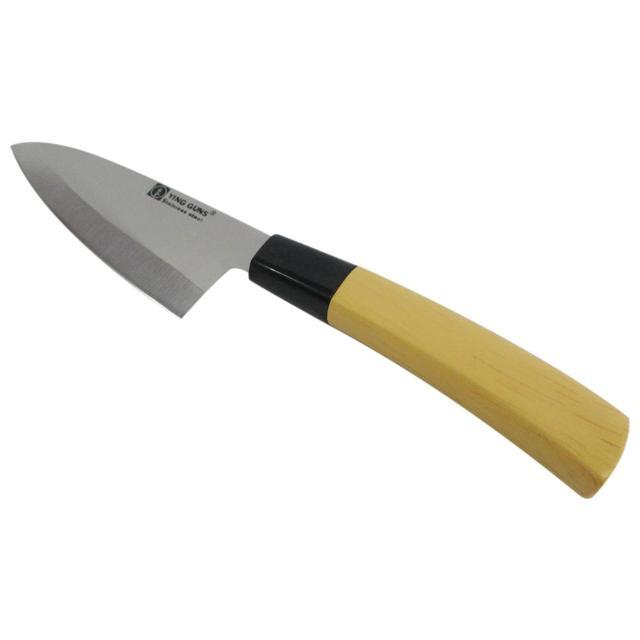Pisau: (8, 124, 640, 526)
